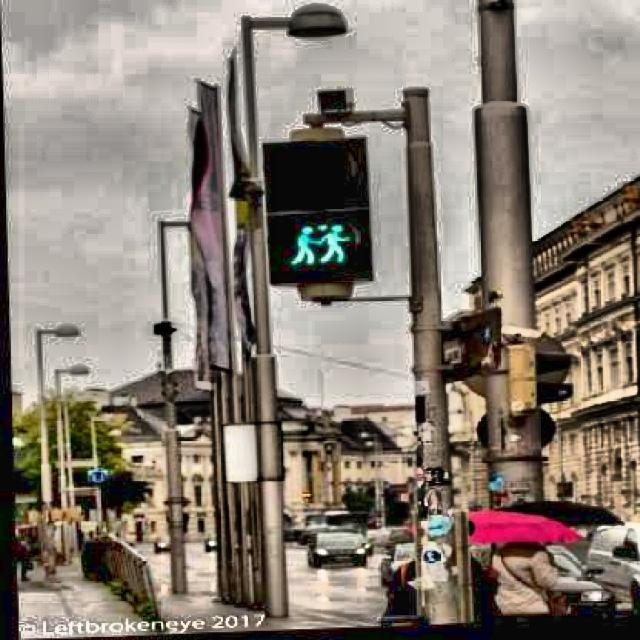semaforo pedestre: (197, 84, 418, 350)
